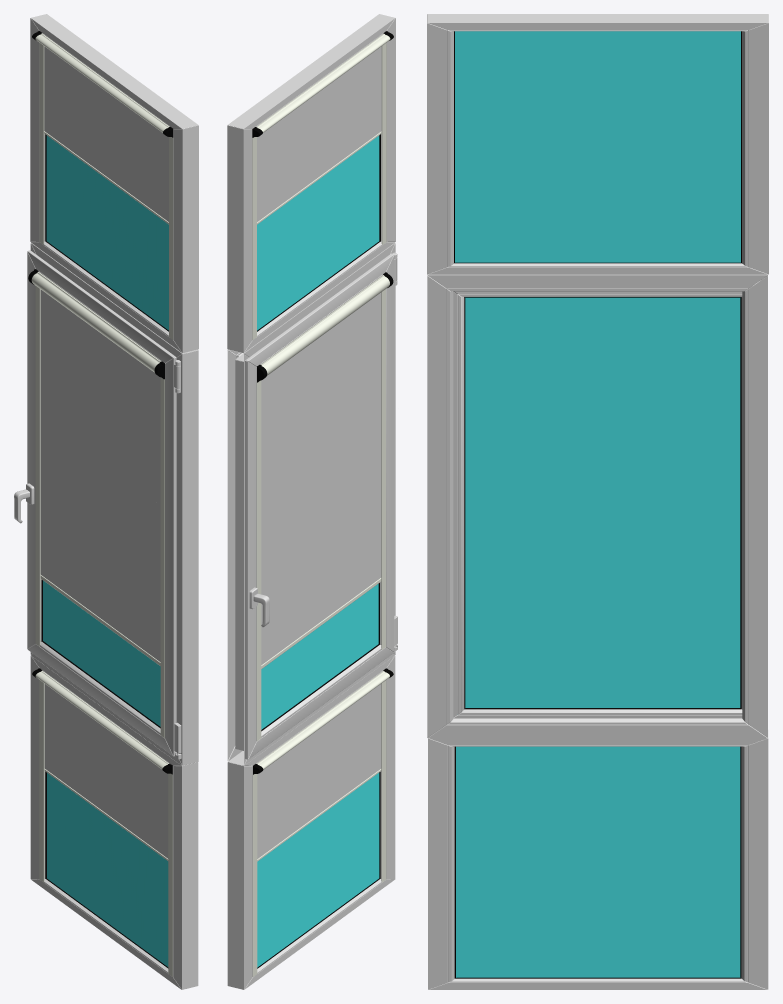
Rendered from Window.fbx.
The picture shows the model from 3 angles, left to right: view 1: azimuth 30°, elevation 25°; view 2: azimuth 150°, elevation 25°; view 3: azimuth 270°, elevation 25°; orthographic projection. The views are drawn at different scales.
Parts seen in each view (by area): view 1: Blinds, WinBig, WinSmall.001, WinSmall, WinBig.001; view 2: Blinds, WinBig, WinSmall.001, WinSmall, WinBig.001; view 3: WinBig, WinSmall.001, WinSmall.
Part boxes in pixels (box(x1,y1,x2,y2)): Blinds: box(40, 46, 168, 858); WinBig: box(14, 243, 198, 765); WinSmall.001: box(30, 14, 198, 353); WinSmall: box(30, 655, 198, 989); WinBig.001: box(40, 575, 160, 665); Blinds: box(257, 46, 393, 858); WinBig: box(227, 243, 398, 765); WinSmall.001: box(227, 14, 395, 353); WinSmall: box(227, 655, 395, 989); WinBig.001: box(261, 578, 381, 668); WinBig: box(427, 274, 767, 738); WinSmall.001: box(427, 14, 768, 274); WinSmall: box(428, 730, 768, 989).
Size of the model in its own units: 10.39 by 239 by 76.59.
